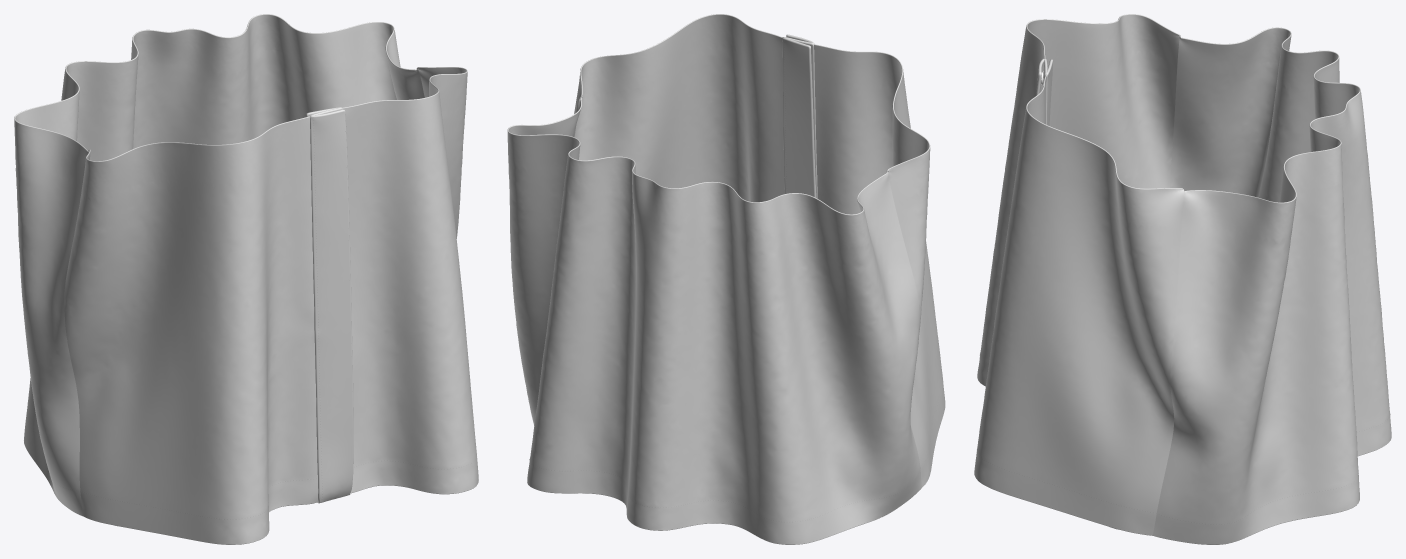
The picture shows the model from 3 angles, left to right: view 1: azimuth 30°, elevation 25°; view 2: azimuth 150°, elevation 25°; view 3: azimuth 270°, elevation 25°; orthographic projection. The views are drawn at different scales.
Parts seen in each view (by area): view 1: 0AD2.面料_前片右合并件_0AD232.M_front, 0AD2.面料_前片左合并件_0AD233.M_front, 0AD2.面料_后片下合并件_0AD234.M_back, 0AD2.面料_后片下合并件_0AD234.M_front, 0AD2.面料_门筒右合并件_0AD235.M_front, 0AD2.面料_门筒右合并件_0AD235.M_side, 0AD2.面料_后片下合并件_0AD234.M_side, 0AD2.面料_前片右合并件_0AD232.M_side, 0AD2.面料_前片左合并件_0AD233.M_back; view 2: 0AD2.面料_后片下合并件_0AD234.M_front, 0AD2.面料_前片左合并件_0AD233.M_back, 0AD2.面料_前片右合并件_0AD232.M_back, 0AD2.面料_前片右合并件_0AD232.M_front, 0AD2.面料_门筒左合并件_0AD236.M_back, 0AD2.面料_后片下合并件_0AD234.M_side, 0AD2.面料_后片下合并件_0AD234.M_back, 0AD2.面料_门筒左合并件_0AD236.M_side; view 3: 0AD2.面料_后片下合并件_0AD234.M_front, 0AD2.面料_前片左合并件_0AD233.M_front, 0AD2.面料_后片下合并件_0AD234.M_back, 0AD2.面料_前片右合并件_0AD232.M_back, 0AD2.面料_前片右合并件_0AD232.M_front, 0AD2.面料_后片下合并件_0AD234.M_side, 0AD2.面料_前片左合并件_0AD233.M_side.
Boxes of the visible parts, box(x1,y1,x2,y2) form: 0AD2.面料_前片右合并件_0AD232.M_front: box(64, 117, 318, 544); 0AD2.面料_前片左合并件_0AD233.M_front: box(342, 67, 478, 493); 0AD2.面料_后片下合并件_0AD234.M_back: box(15, 15, 424, 161); 0AD2.面料_后片下合并件_0AD234.M_front: box(14, 30, 400, 515); 0AD2.面料_门筒右合并件_0AD235.M_front: box(311, 109, 352, 502); 0AD2.面料_门筒右合并件_0AD235.M_side: box(309, 107, 353, 503); 0AD2.面料_后片下合并件_0AD234.M_side: box(14, 14, 424, 516); 0AD2.面料_前片右合并件_0AD232.M_side: box(86, 116, 314, 544); 0AD2.面料_前片左合并件_0AD233.M_back: box(417, 67, 466, 97); 0AD2.面料_后片下合并件_0AD234.M_front: box(507, 97, 921, 544); 0AD2.面料_前片左合并件_0AD233.M_back: box(574, 15, 784, 202); 0AD2.面料_前片右合并件_0AD232.M_back: box(814, 45, 928, 214); 0AD2.面料_前片右合并件_0AD232.M_front: box(887, 72, 945, 487); 0AD2.面料_门筒左合并件_0AD236.M_back: box(782, 39, 813, 196); 0AD2.面料_后片下合并件_0AD234.M_side: box(507, 98, 920, 544); 0AD2.面料_后片下合并件_0AD234.M_back: box(508, 109, 862, 211); 0AD2.面料_门筒左合并件_0AD236.M_side: box(782, 37, 816, 197); 0AD2.面料_后片下合并件_0AD234.M_front: box(1153, 36, 1391, 544); 0AD2.面料_前片左合并件_0AD233.M_front: box(974, 109, 1184, 535); 0AD2.面料_后片下合并件_0AD234.M_back: box(1170, 28, 1359, 202); 0AD2.面料_前片右合并件_0AD232.M_back: box(1027, 15, 1179, 188); 0AD2.面料_前片右合并件_0AD232.M_front: box(977, 27, 1180, 385); 0AD2.面料_后片下合并件_0AD234.M_side: box(1154, 27, 1390, 544); 0AD2.面料_前片左合并件_0AD233.M_side: box(976, 74, 1184, 535).
Size of the model in its own units: 3.6 by 3.41 by 3.31.
10 materials, 5 textured.
